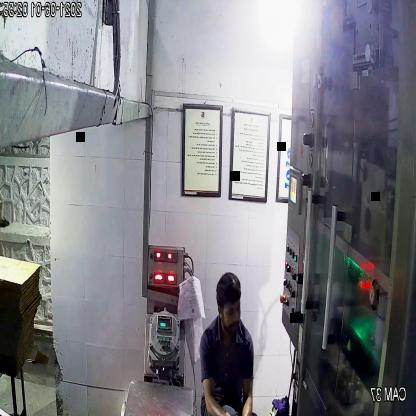no_goggles: (218, 295, 244, 319)
